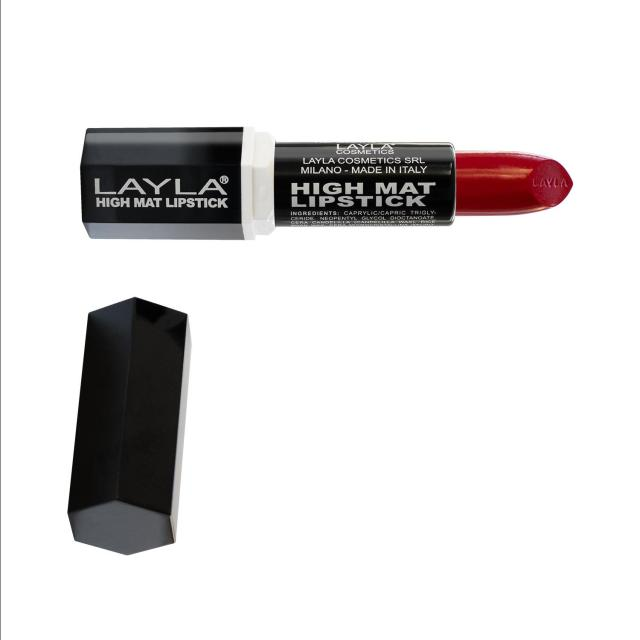lipstick: (69, 106, 602, 256)
